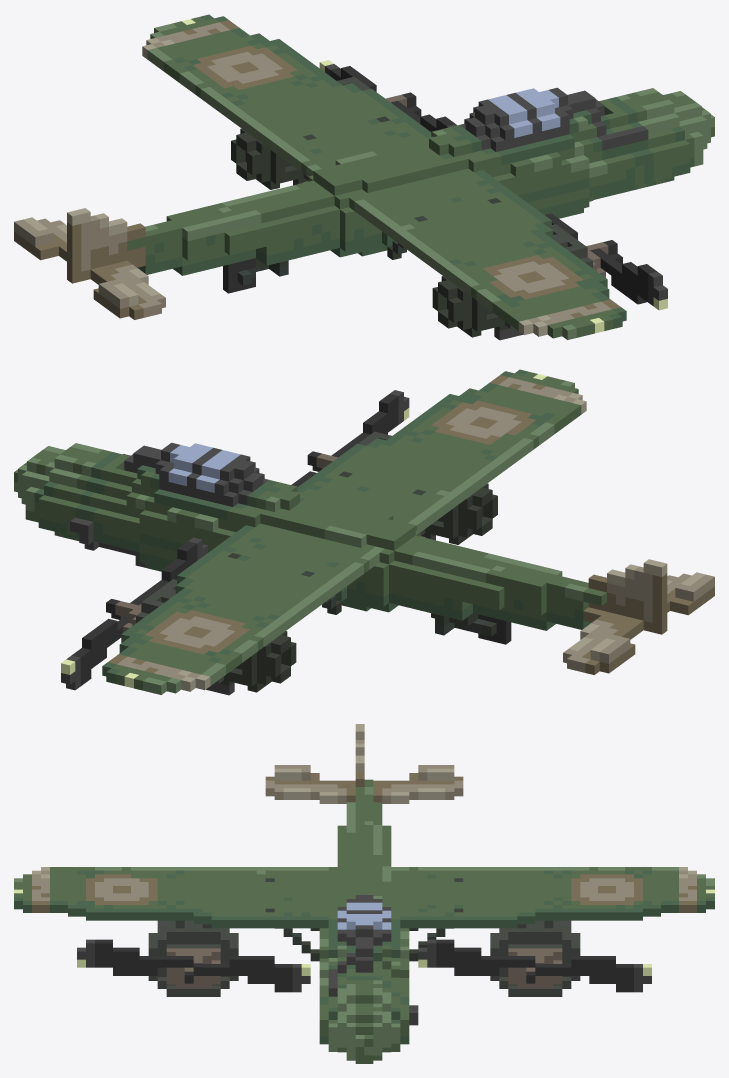
3 views of the same model, one above another, from view 1: azimuth 30°, elevation 25°; view 2: azimuth 150°, elevation 25°; view 3: azimuth 270°, elevation 25° (orthographic). The views are drawn at different scales.
Visible parts, largest first — view 1: Untitled; view 2: Untitled; view 3: Untitled.
Part boxes in pixels (bbox=[...]): Untitled: bbox=[14, 14, 714, 340]; Untitled: bbox=[14, 369, 714, 695]; Untitled: bbox=[14, 724, 714, 1063].
Size of the model in its own units: 7 by 1.5 by 7.8.
1 material, 1 textured.
